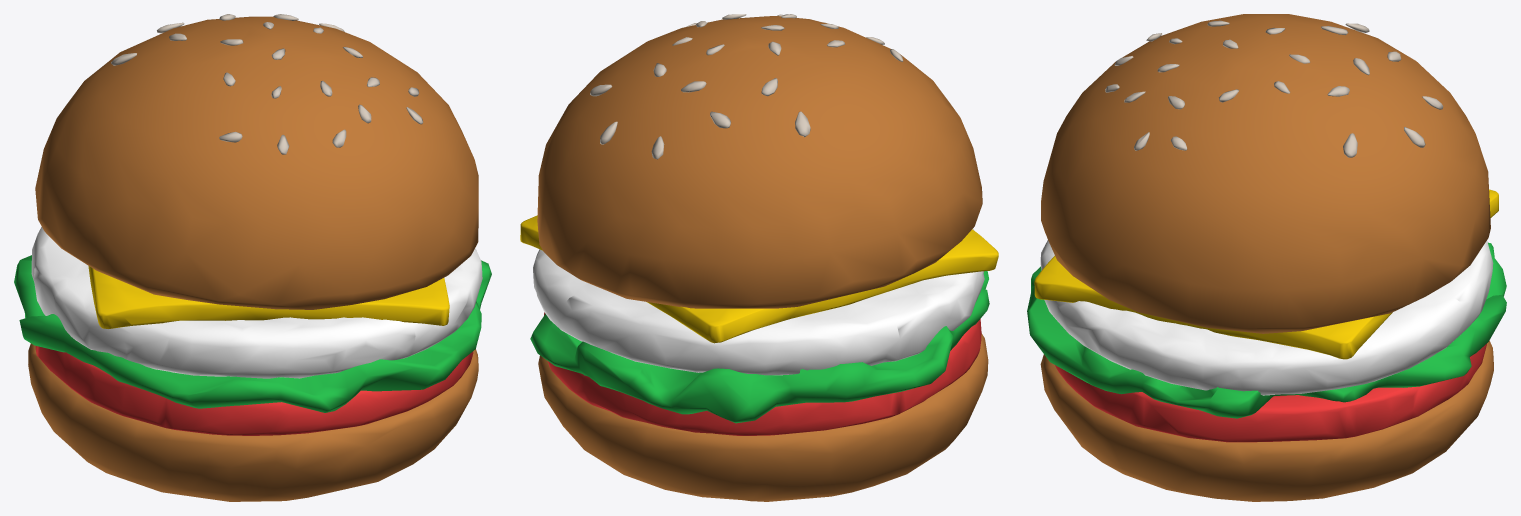
File: burger.glb
3 views of the same model, side by side, from view 1: azimuth 30°, elevation 25°; view 2: azimuth 150°, elevation 25°; view 3: azimuth 270°, elevation 25° (orthographic).
Parts seen in each view (by area): view 1: Sphere001, bread_base, beef, Group58080, Object001, cheef, Sesame; view 2: Sphere001, bread_base, beef, Group58080, Object001, cheef, Sesame; view 3: Sphere001, bread_base, beef, Object001, Group58080, cheef, Sesame.
Part boxes in pixels (x1,y1,x2,y2): Sphere001: [35, 16, 478, 309]; bread_base: [28, 343, 478, 501]; beef: [31, 227, 482, 378]; Group58080: [14, 255, 491, 412]; Object001: [35, 346, 473, 435]; cheef: [88, 266, 449, 328]; Sesame: [111, 14, 423, 154]; Sphere001: [537, 16, 982, 308]; bread_base: [538, 333, 988, 501]; beef: [533, 229, 984, 375]; Group58080: [530, 271, 989, 423]; Object001: [544, 312, 981, 435]; cheef: [520, 215, 998, 343]; Sesame: [590, 14, 903, 159]; Sphere001: [1041, 14, 1490, 333]; bread_base: [1040, 340, 1493, 501]; beef: [1040, 240, 1493, 395]; Object001: [1055, 343, 1486, 442]; Group58080: [1027, 242, 1506, 418]; cheef: [1034, 189, 1498, 359]; Sesame: [1105, 20, 1443, 157].
Bounding box in the file's own units: 0.6342 × 0.5817 × 0.6232.
